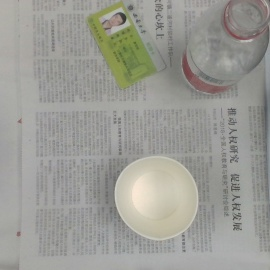bottle: (183, 1, 269, 96)
card: (88, 1, 166, 88)
cup: (112, 155, 199, 240)
